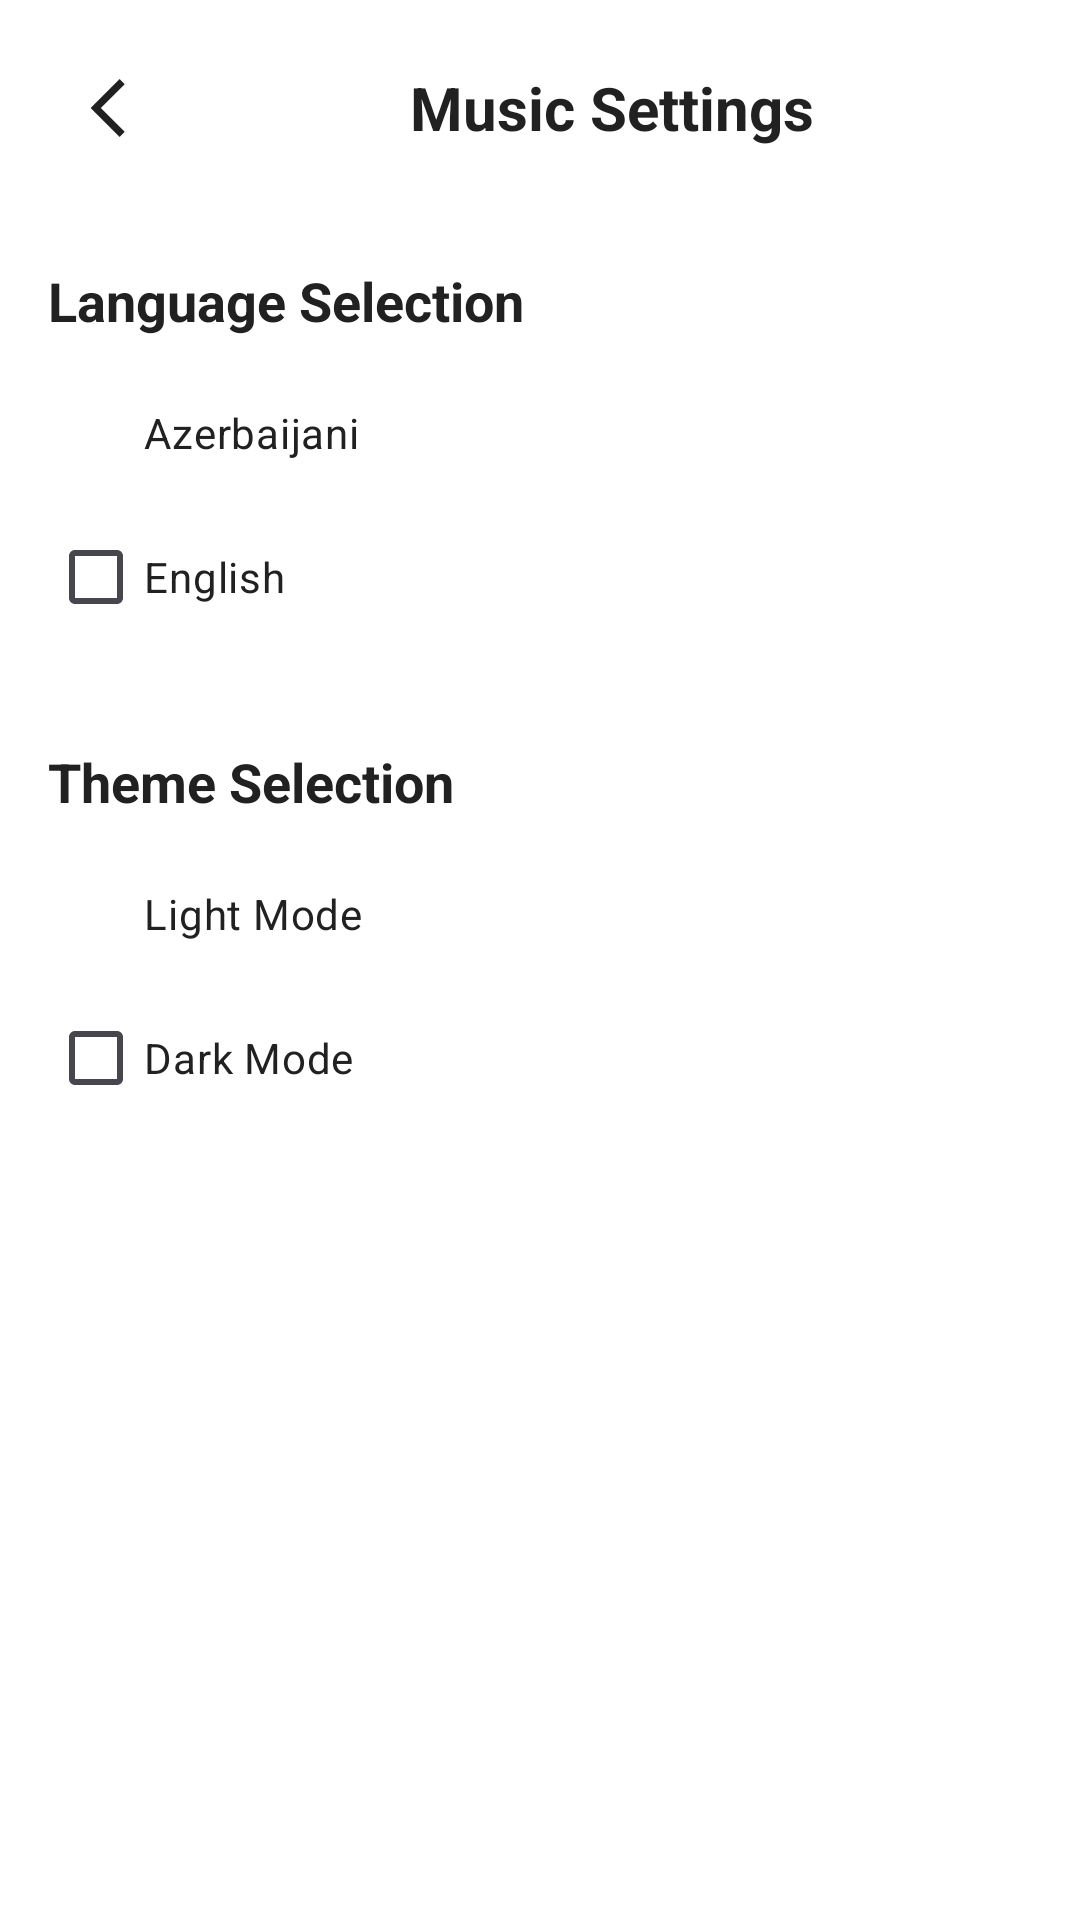

Icon bounding boxes for this 1080x1920 phone screenshot, format (x1, y1, x2, y2):
back: (91, 79, 125, 137)
